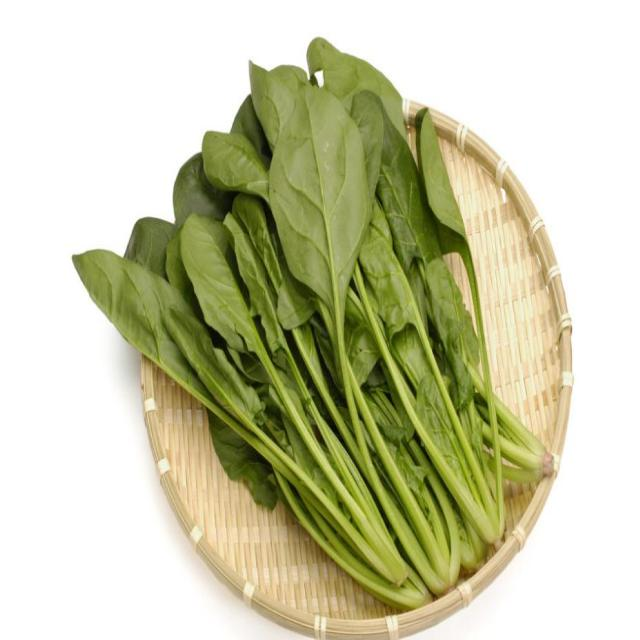-Kitchen waste - vegetable roots and leaves-: (418, 106, 511, 544), (73, 247, 261, 427), (272, 78, 373, 369), (181, 211, 264, 365)
